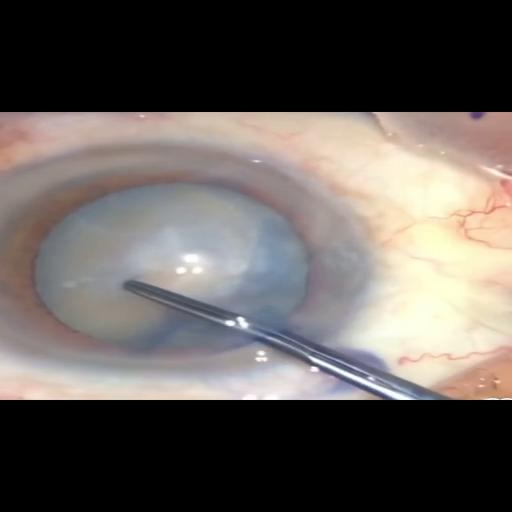catarata: (39, 184, 307, 348)
cornea: (0, 138, 393, 376)
pupil: (8, 165, 318, 353)
